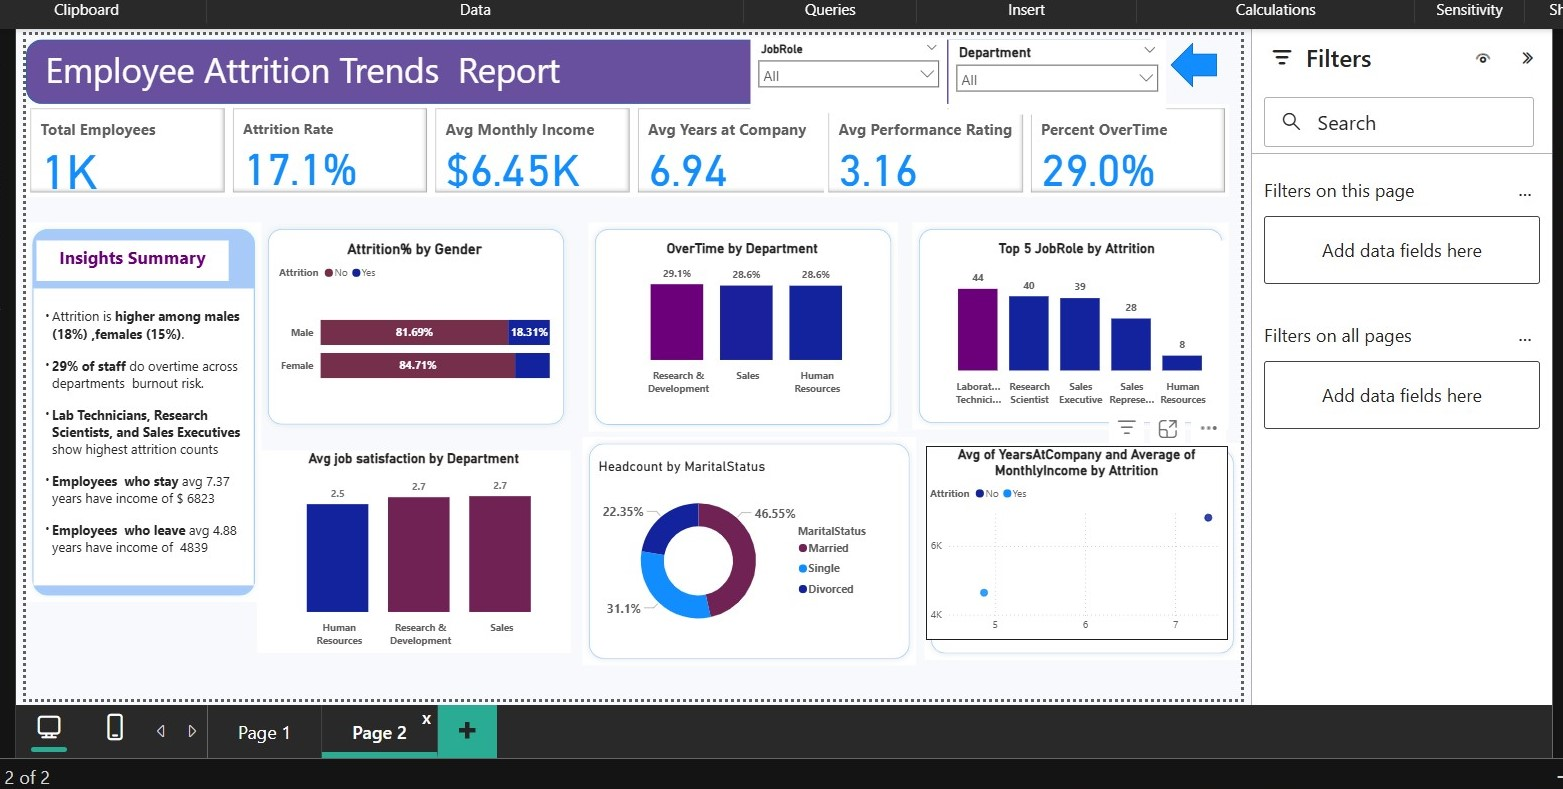

The dashboard page shown, as its layout file describes it:
{"tool":"powerbi","page":{"name":"Page 2","canvas":[1500,820],"ordinal":1},"visuals":[{"type":"cardVisual","fields":{"Data":["Data.Percent OverTime"]},"box":[1235.6,85.2,250.1,114.9],"z":0},{"type":"shape","box":[0,5.6,1407.9,79.7],"z":1000},{"type":"shape","box":[290.8,231.6,381.6,257.5],"z":2000},{"type":"shape","box":[694,232,382,258],"z":3000},{"type":"shape","box":[1094.8,231.6,390.9,255.6],"z":4000},{"type":"shape","box":[1110,504,390,268],"z":5000},{"type":"cardVisual","fields":{"Data":["Data.Total Employees"]},"box":[0,85.2,250.1,114.9],"z":6000},{"type":"cardVisual","fields":{"Data":["Data.Attrition Rate"]},"box":[250.1,85.2,250.1,114.9],"z":7000},{"type":"cardVisual","fields":{"Data":["Data.Avg Monthly Income"]},"box":[500.2,85.2,250.1,114.9],"z":8000},{"type":"cardVisual","fields":{"Data":["Data.Avg Years at Company"]},"box":[750.2,85.2,250.1,114.9],"z":9000},{"type":"cardVisual","fields":{"Data":["Data.Avg Performance Rating"]},"box":[985.3,85.7,251.2,114.9],"z":10000},{"type":"hundredPercentStackedBarChart","title":" Attrition% by  Gender ","fields":{"Category":["Data.Gender"],"Y":["Data.Headcount"],"Series":["Data.Attrition"]},"box":[307.5,253.8,364.9,213],"z":11000},{"type":"clusteredColumnChart","title":"OverTime by Department","fields":{"Y":["Data.Percent OverTime"],"Category":["Data.Department"]},"box":[718.8,253.8,331.6,198.2],"z":12000},{"type":"clusteredColumnChart","title":"Top 5 JobRole by Attrition","fields":{"Category":["Data.JobRole"],"Y":["Data.Attrition Count"]},"box":[1111.5,253.8,372.3,211.2],"z":13000},{"type":"clusteredColumnChart","fields":{"Category":["Data.Department"],"Y":["Data.Avg job satisfaction"]},"box":[285.3,513.1,387.2,250.1],"z":14000},{"type":"shape","box":[688,496,412,282],"z":15000},{"type":"donutChart","fields":{"Category":["Data.MaritalStatus"],"Y":["Data.Headcount"]},"box":[702,522,362,234],"z":16000},{"type":"scatterChart","title":"Avg of YearsAtCompany and Average of MonthlyIncome by Attrition","fields":{"X":["Avg(Data.YearsAtCompany)"],"Y":["Avg(Data.MonthlyIncome)"],"Series":["Data.Attrition"]},"box":[1112,508,372,238],"z":17000},{"type":"shape","box":[0,231.6,290.8,481.6],"z":18000},{"type":"textbox","box":[13,253.8,237.1,50],"z":19000},{"type":"textbox","box":[9.3,313.1,272.3,379.8],"z":20000},{"type":"shape","box":[1413.4,9.3,57.4,55.6],"z":21000},{"type":"textbox","box":[7.4,7.4,679.9,70.4],"z":22000},{"type":"slicer","fields":{"Values":["Data.Department"]},"box":[1139.3,5.6,268.6,92.6],"z":23000},{"type":"slicer","fields":{"Values":["Data.JobRole"]},"box":[894.7,3.7,242.7,92.6],"z":24000}]}

Visuals, with their boxes on the page's 1500x820 design canvas (x1, y1, x2, y2). These are canvas units, not pixel positions in the 1563x789 screenshot, which may show the page scaled, cropped or inside an application window:
cardVisual - Data.Percent OverTime: 1236, 85, 1486, 200
shape: 0, 6, 1408, 85
shape: 291, 232, 672, 489
shape: 694, 232, 1076, 490
shape: 1095, 232, 1486, 487
shape: 1110, 504, 1500, 772
cardVisual - Data.Total Employees: 0, 85, 250, 200
cardVisual - Data.Attrition Rate: 250, 85, 500, 200
cardVisual - Data.Avg Monthly Income: 500, 85, 750, 200
cardVisual - Data.Avg Years at Company: 750, 85, 1000, 200
cardVisual - Data.Avg Performance Rating: 985, 86, 1236, 201
" Attrition% by  Gender " hundredPercentStackedBarChart: 308, 254, 672, 467
"OverTime by Department" clusteredColumnChart: 719, 254, 1050, 452
"Top 5 JobRole by Attrition" clusteredColumnChart: 1112, 254, 1484, 465
clusteredColumnChart - Data.Department x Data.Avg job satisfaction: 285, 513, 672, 763
shape: 688, 496, 1100, 778
donutChart - Data.MaritalStatus x Data.Headcount: 702, 522, 1064, 756
"Avg of YearsAtCompany and Average of MonthlyIncome by Attrition" scatterChart: 1112, 508, 1484, 746
shape: 0, 232, 291, 713
textbox: 13, 254, 250, 304
textbox: 9, 313, 282, 693
shape: 1413, 9, 1471, 65
textbox: 7, 7, 687, 78
slicer - Data.Department: 1139, 6, 1408, 98
slicer - Data.JobRole: 895, 4, 1137, 96
